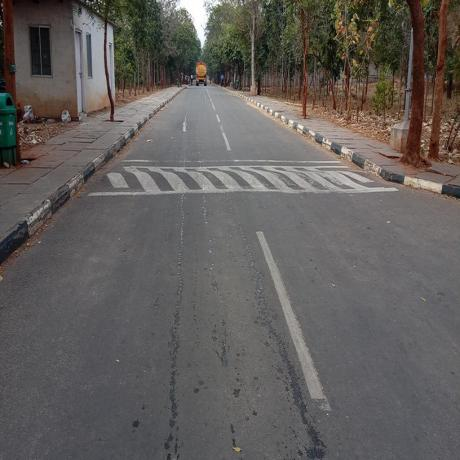Speed Bump: (106, 159, 350, 195)
